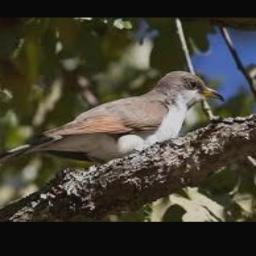Cuckoo: (0, 70, 226, 170)
